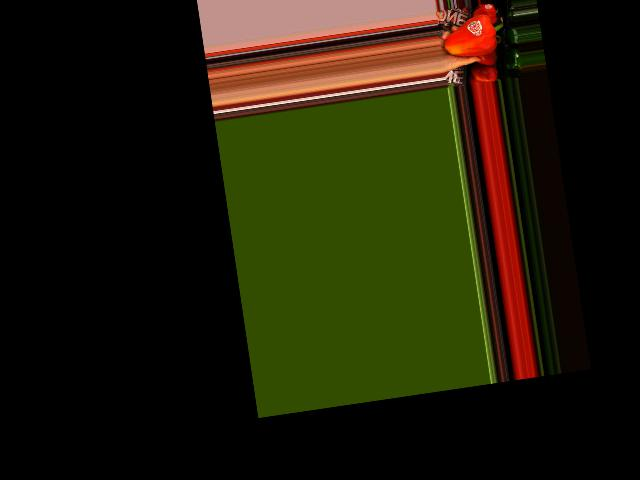bell_pepper: (441, 10, 508, 65)
